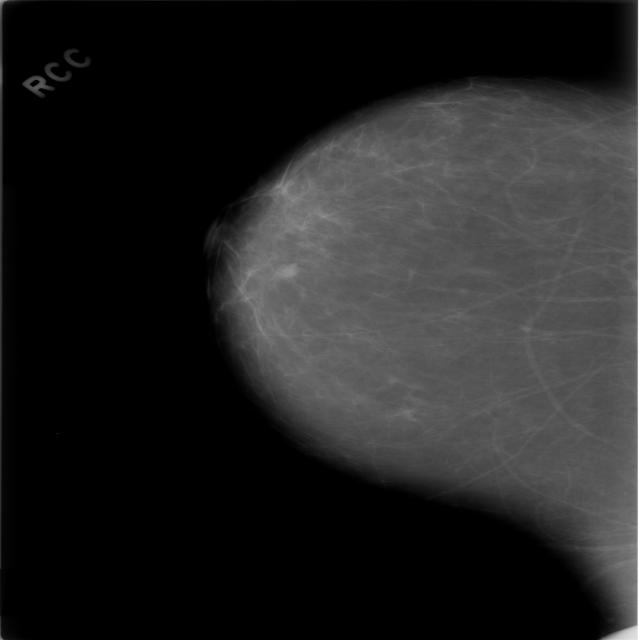normal: (213, 46, 640, 570)
